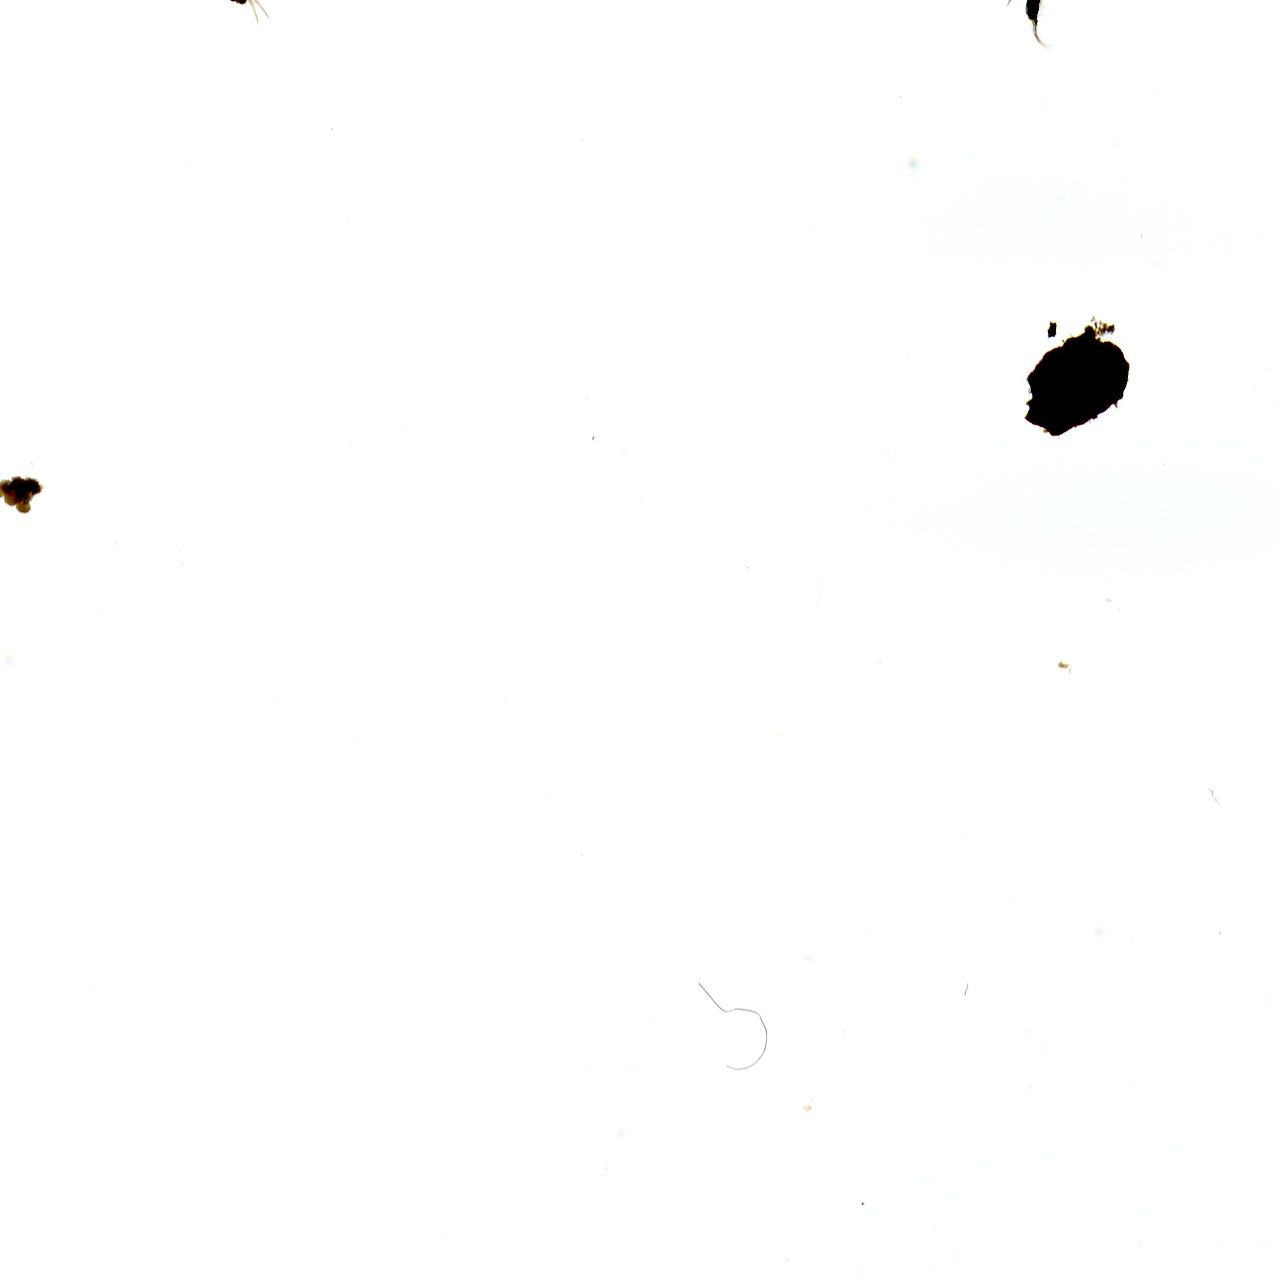arthropod: (184, 0, 272, 32), (1001, 0, 1057, 48)
